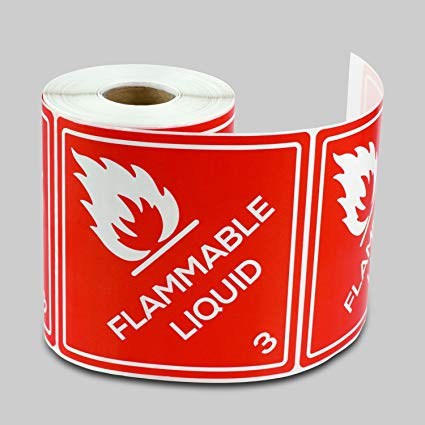FlammableLiquid: (56, 122, 294, 377)
